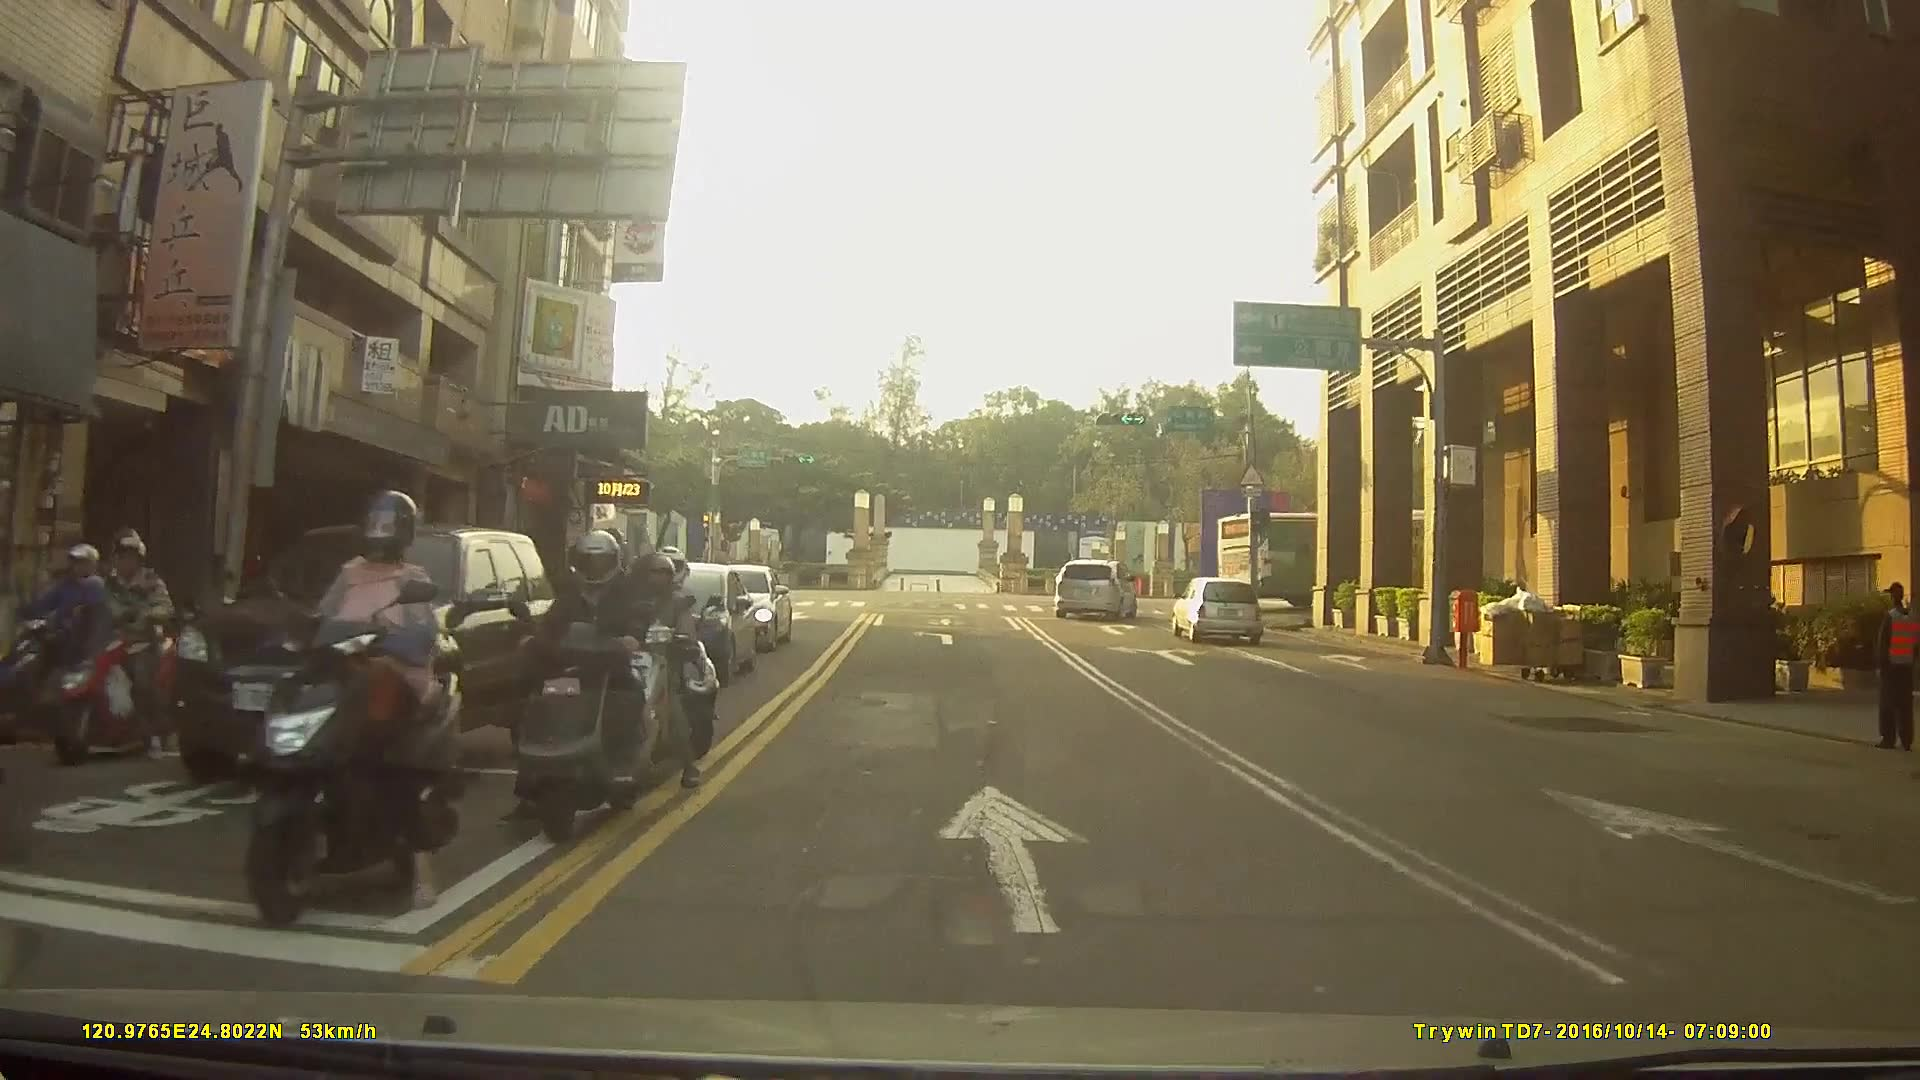pedestrian: (1876, 573, 1920, 759)
rider: (250, 495, 470, 925), (510, 533, 664, 848), (42, 534, 190, 764)
vehicle: (160, 524, 556, 789), (1216, 510, 1482, 604), (1169, 575, 1265, 646), (1053, 556, 1135, 618)
